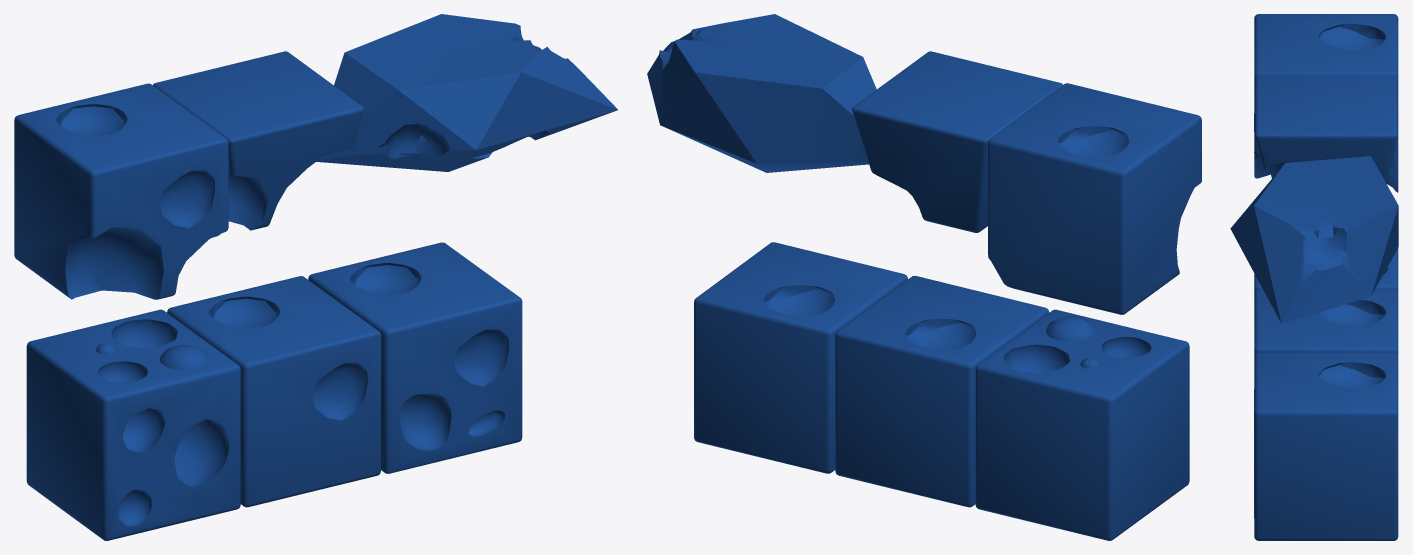
File: PLATFORM (1).fbx
The picture shows the model from 3 angles, left to right: view 1: azimuth 30°, elevation 25°; view 2: azimuth 150°, elevation 25°; view 3: azimuth 270°, elevation 25°; orthographic projection. The views are drawn at different scales.
Parts seen in each view (by area): view 1: P_02, UST_01, P_03, P_01, UST_03, UST_02; view 2: P_02, UST_01, P_03, P_01, UST_03, UST_02; view 3: P_03, UST_03, UST_02, UST_01, P_01, P_02.
Boxes of the visible parts, x1,y1,x2,y2 form: P_02: [26, 309, 240, 540]; UST_01: [14, 83, 228, 299]; P_03: [308, 242, 522, 473]; P_01: [167, 276, 381, 507]; UST_03: [316, 14, 617, 171]; UST_02: [153, 51, 363, 230]; P_02: [975, 309, 1189, 540]; UST_01: [988, 83, 1201, 314]; P_03: [694, 242, 907, 473]; P_01: [835, 276, 1049, 507]; UST_03: [647, 14, 876, 172]; UST_02: [852, 51, 1062, 232]; P_03: [1254, 352, 1398, 540]; UST_03: [1230, 156, 1398, 323]; UST_02: [1255, 75, 1397, 182]; UST_01: [1254, 14, 1398, 192]; P_01: [1254, 289, 1398, 451]; P_02: [1254, 248, 1398, 292].
Bounding box in the file's own units: 785 × 520 × 234.
